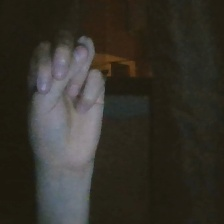N: (19, 21, 115, 183)
